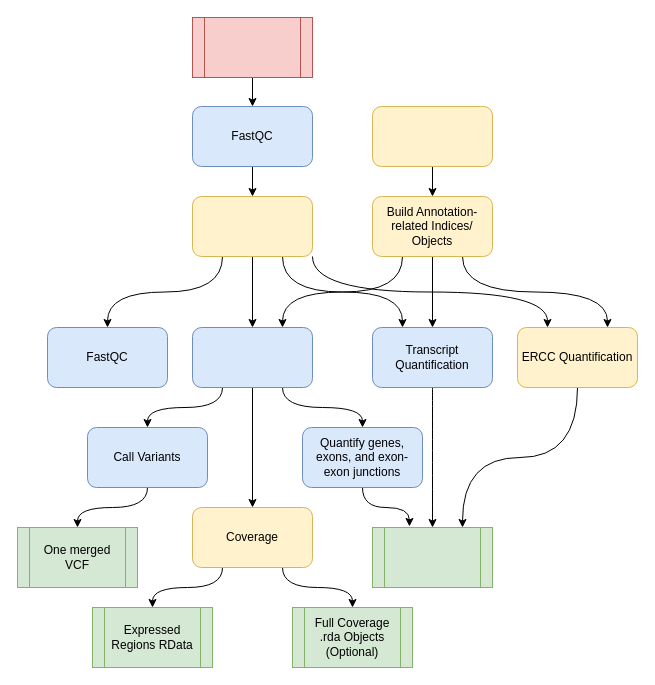
Some shapes in this 655 by 685 pixel diagram are drawn without their labels. The shapes that lost their labels are listed below. From the top down, each one's box as (x1, y1, x2, y2) in pixels, then its label:
(192, 16, 312, 78): Input FASTQs
(372, 106, 492, 166): Pull Annotation Files
(192, 196, 312, 256): Trimming
(192, 326, 312, 388): Alignment
(372, 526, 492, 588): Ranged Summarized Experiment + .rda Objects
